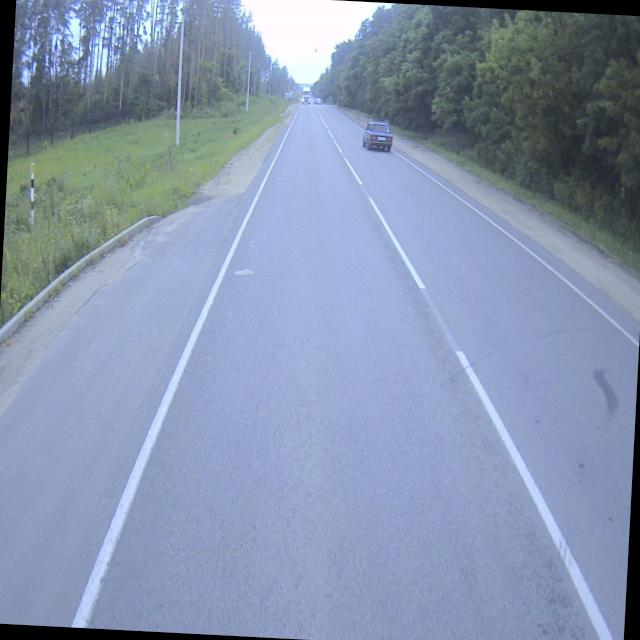road: (0, 102, 639, 640)
